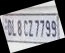character: (27, 19, 34, 36), (50, 20, 57, 37), (39, 19, 45, 38), (45, 19, 51, 38), (22, 19, 28, 37), (33, 19, 39, 37), (16, 20, 22, 36), (7, 18, 12, 36), (11, 19, 16, 37)
